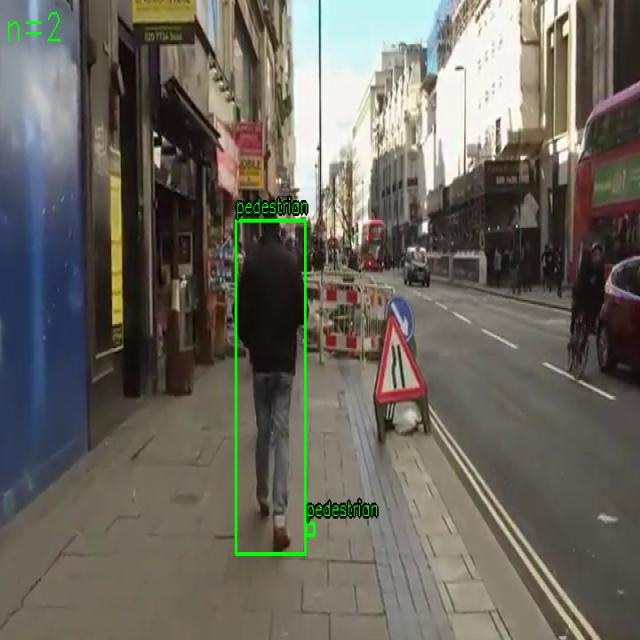with scooter: (236, 220, 306, 555), (306, 523, 314, 536)
